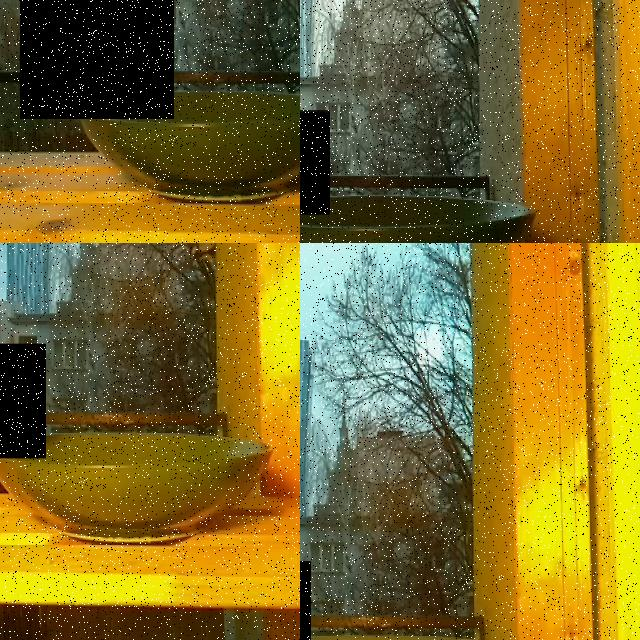Wrobel: (20, 0, 174, 119), (0, 343, 46, 458)
